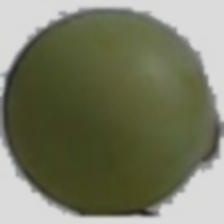grapes: (35, 48, 214, 208)
